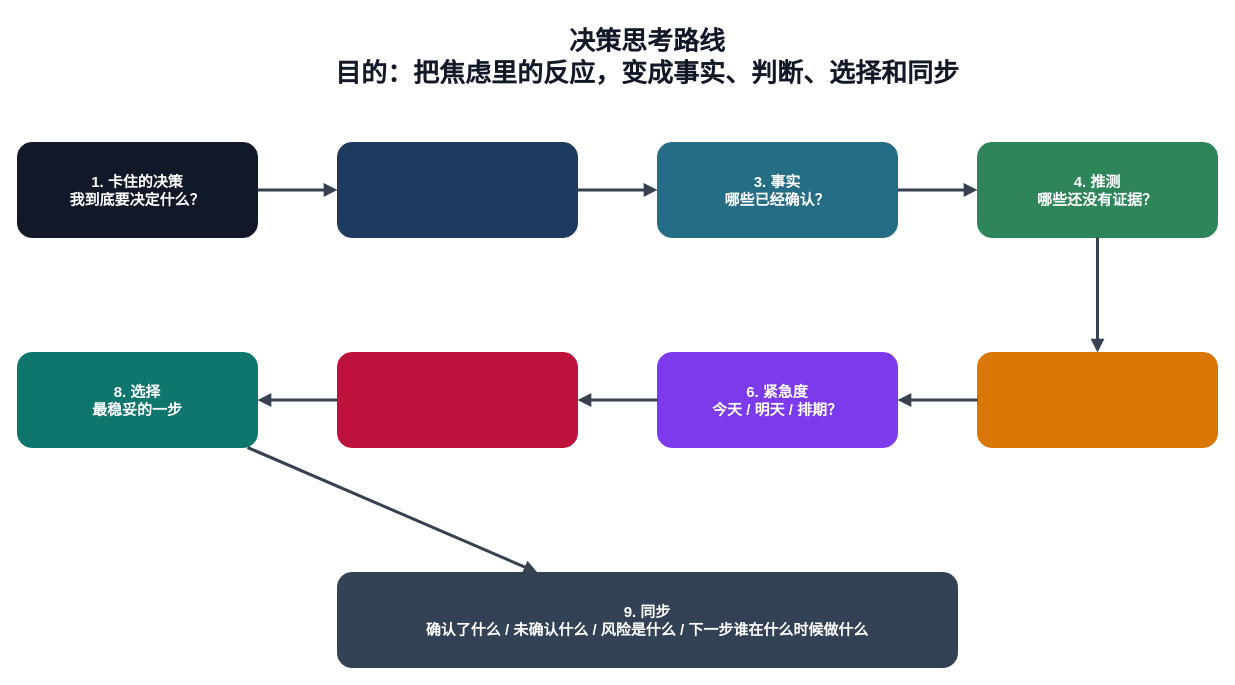
Image size: 1235x685. Some labels were removed from this diagram. Here are the shapes that lost their labels. From the top down, the box of each, then its label:
(336, 142, 578, 238): 2. 目标 真正要达成什么？
(336, 352, 578, 448): 7. 选项 收益、代价、最大风险
(976, 352, 1218, 448): 5. 恐惧 我在保护什么？
